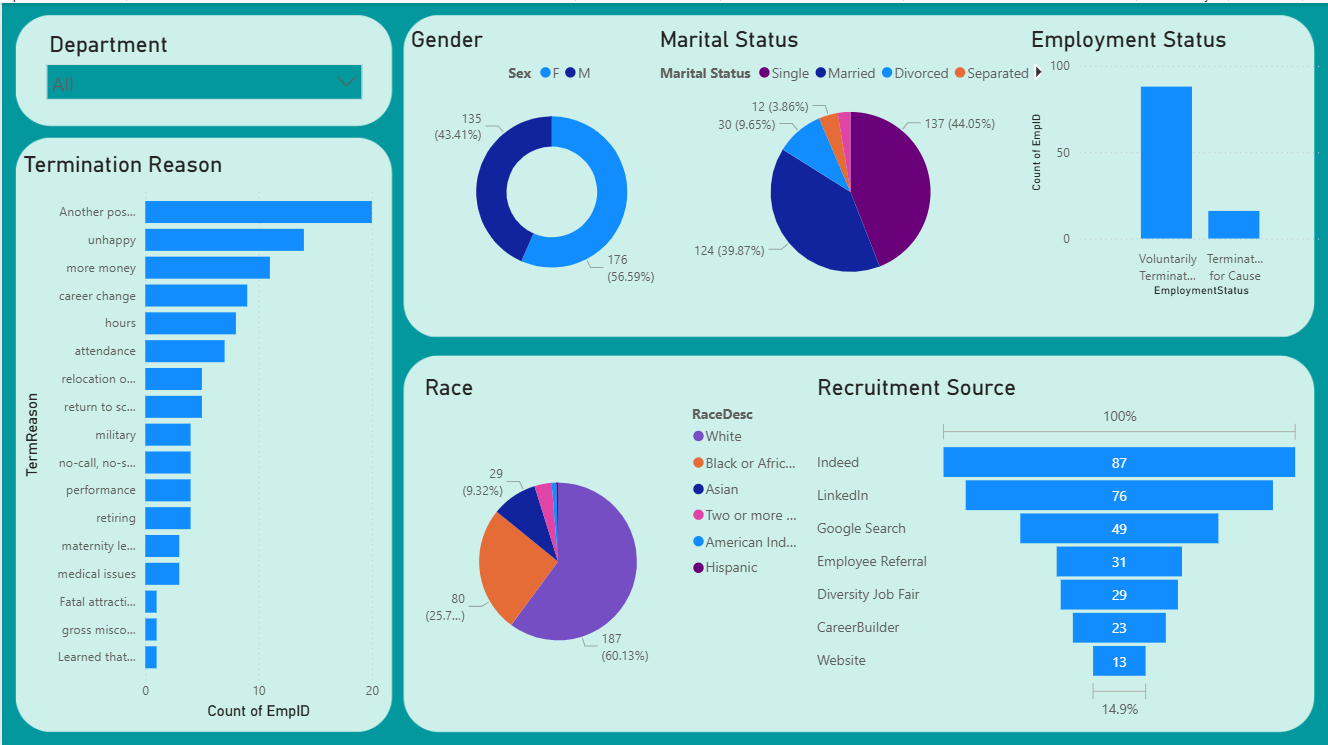

What the dashboard file says about the page in this screenshot:
{"tool":"powerbi","page":{"name":"Demographic","canvas":[1280,720],"ordinal":0},"visuals":[{"type":"slicer","fields":{"Values":["HRDataset.Department"]},"box":[32.9,23.3,325.2,82.3],"z":0},{"type":"donutChart","title":"Gender","fields":{"Category":["HRDataset.Sex"],"Y":["CountNonNull(HRDataset.EmpID)"]},"box":[389.7,22.9,282.3,265.4],"z":1000},{"type":"pieChart","title":"Marital Status","fields":{"Category":["HRDataset.MaritalDesc"],"Y":["CountNonNull(HRDataset.EmpID)"]},"box":[629.8,22.9,378.8,265.4],"z":2000},{"type":"clusteredColumnChart","title":"Employment Status","fields":{"Category":["HRDataset.EmploymentStatus"],"Y":["CountNonNull(HRDataset.EmpID)"]},"box":[988.1,22.9,292,265.4],"z":3000},{"type":"barChart","title":"Termination Reason","fields":{"Category":["HRDataset.TermReason"],"Y":["CountNonNull(HRDataset.EmpID)"]},"box":[15.7,143.6,353.5,552.5],"z":4000},{"type":"pieChart","title":"Race","fields":{"Category":["HRDataset.RaceDesc"],"Y":["CountNonNull(HRDataset.EmpID)"]},"box":[403,358.3,378.8,337.8],"z":4001},{"type":"funnel","title":"Recruitment Source","fields":{"Category":["HRDataset.RecruitmentSource"],"Y":["CountNonNull(HRDataset.EmpID)"]},"box":[781.8,358.3,476.5,337.8],"z":4002}]}

Visuals, with their boxes in screenshot pixels (x1, y1, x2, y2), scaled from the page's 1280x720 canvas onto the 1328x745 screenshot:
slicer - HRDataset.Department: x1=34, y1=24, x2=372, y2=109
"Gender" donutChart: x1=404, y1=24, x2=697, y2=298
"Marital Status" pieChart: x1=653, y1=24, x2=1046, y2=298
"Employment Status" clusteredColumnChart: x1=1025, y1=24, x2=1327, y2=298
"Termination Reason" barChart: x1=16, y1=149, x2=383, y2=720
"Race" pieChart: x1=418, y1=371, x2=811, y2=720
"Recruitment Source" funnel: x1=811, y1=371, x2=1305, y2=720
